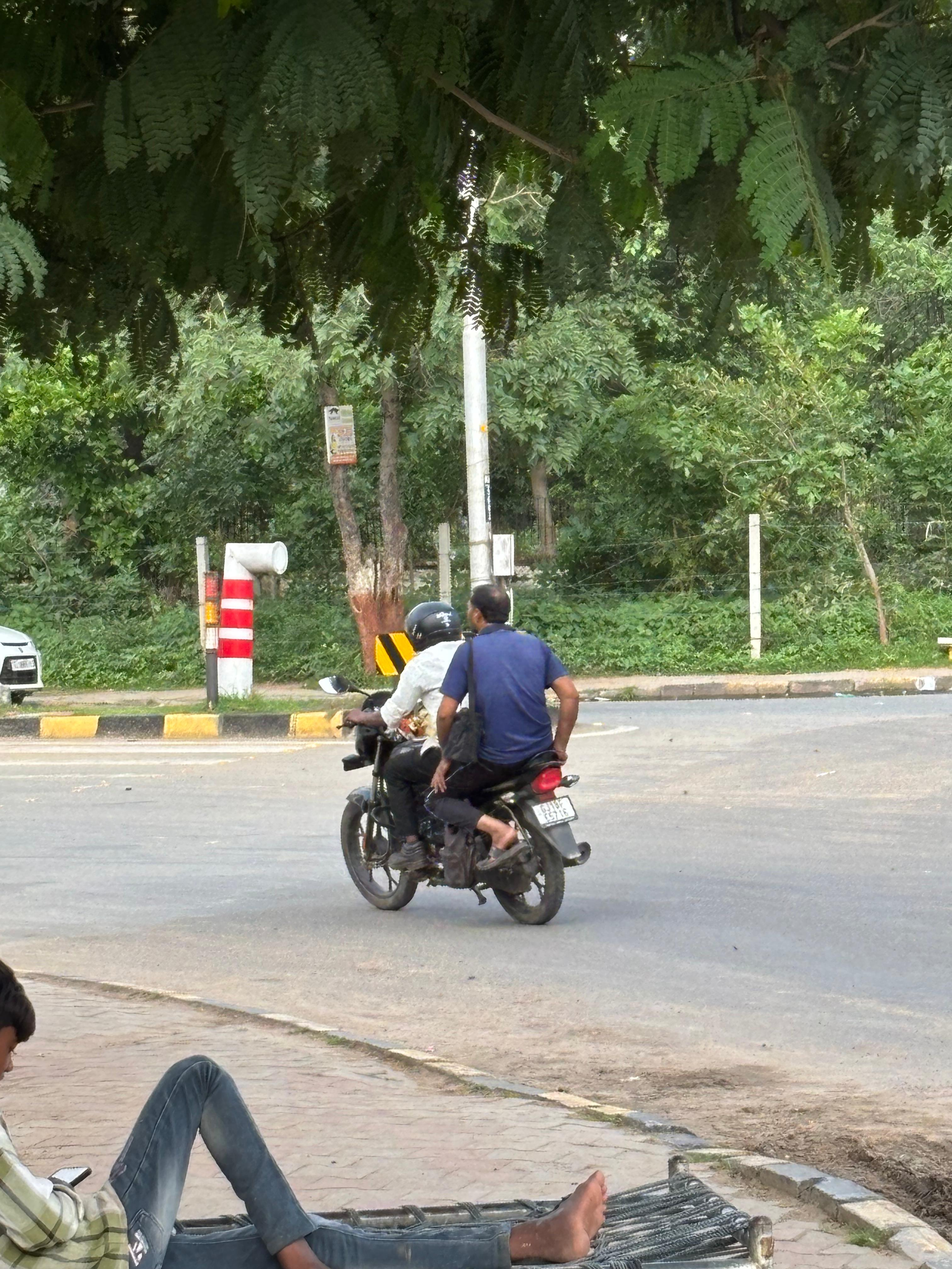BikeWithRider: (309, 574, 603, 932)
Helmet: (398, 595, 468, 656)
NoHelmet: (465, 577, 518, 634)
